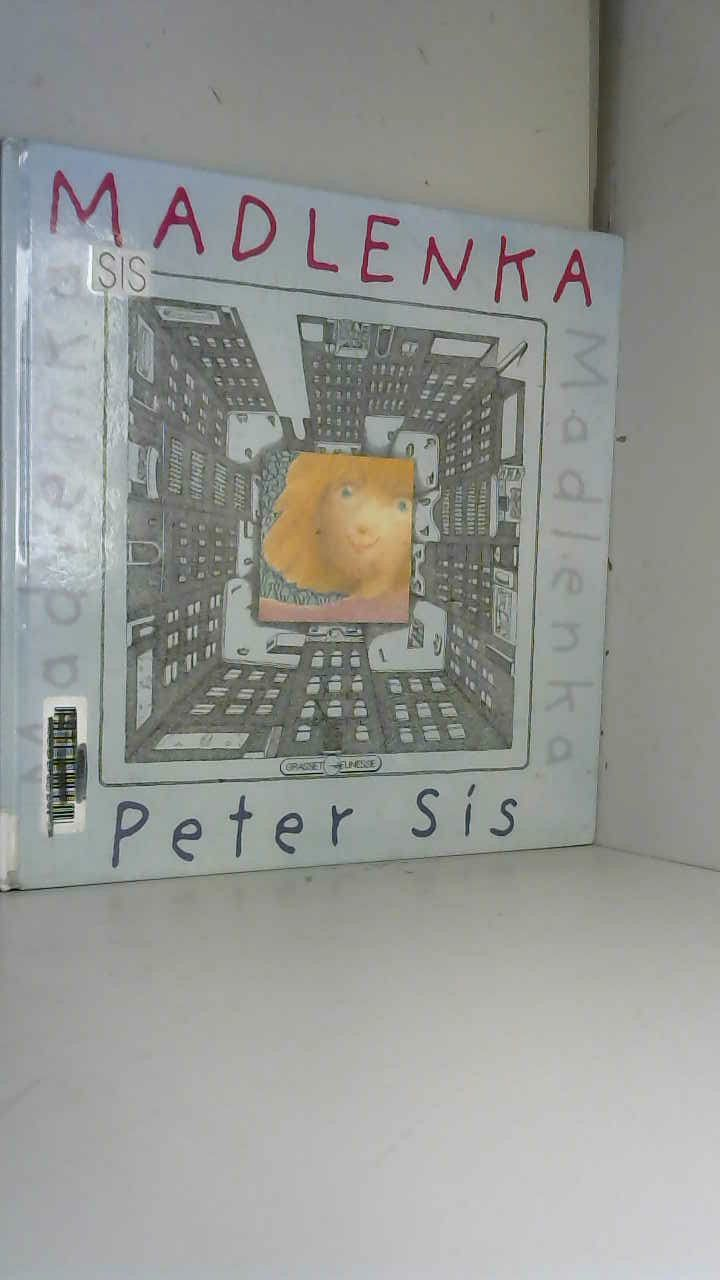book: (0, 117, 639, 923)
